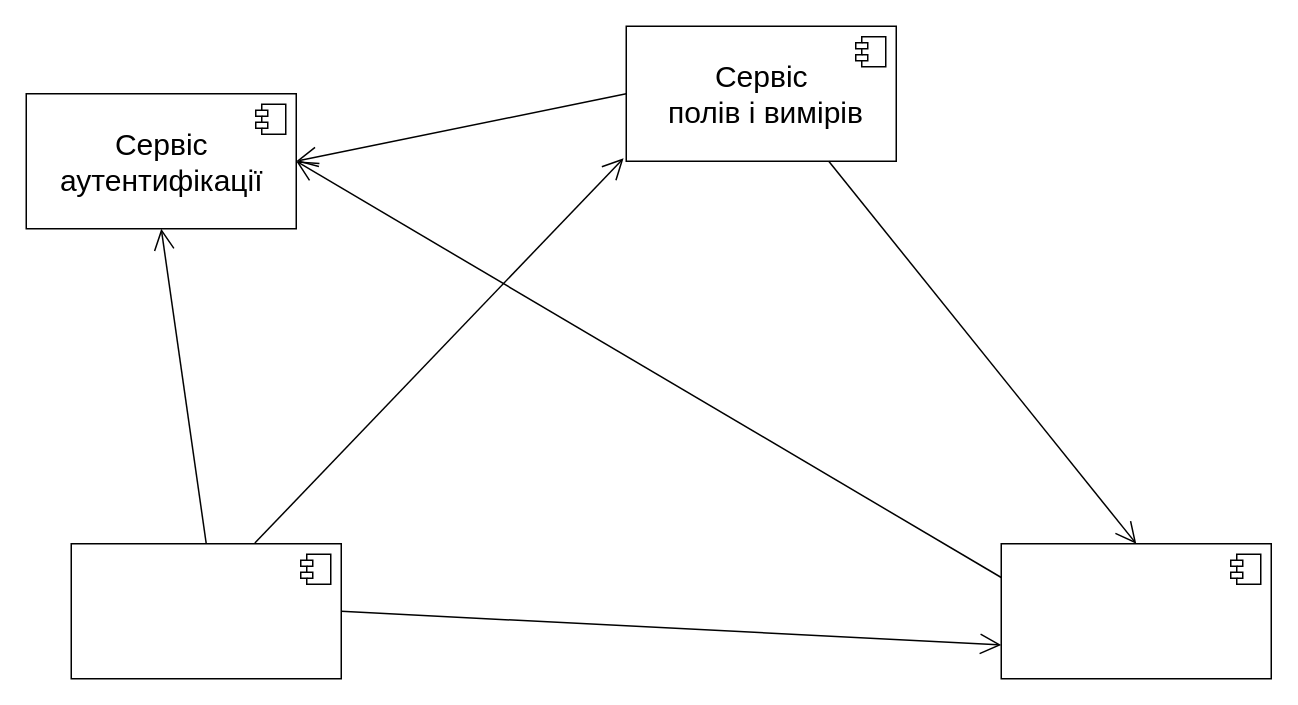
Image size: 1298x705. Some labels were removed from this diagram. The centre of each missing label's shape, as x and y in pixels:
"Сервіс генерації звітів" belongs at point (205, 610).
"Сервіс компаній" belongs at point (1135, 610).
